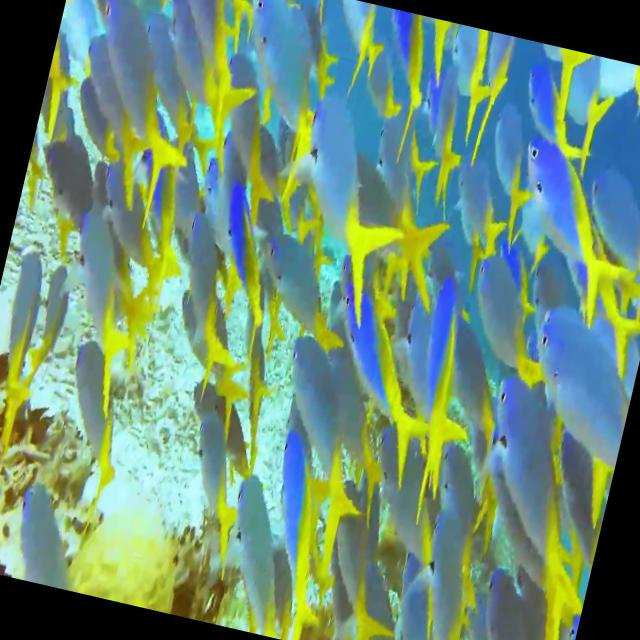fish: (238, 313, 403, 583), (268, 70, 430, 342), (50, 0, 226, 232), (374, 237, 510, 508), (480, 126, 640, 338), (134, 202, 274, 418), (505, 296, 640, 487), (44, 23, 177, 214), (38, 200, 155, 416), (302, 470, 431, 640), (220, 0, 354, 159), (206, 461, 323, 640), (159, 396, 263, 571), (42, 334, 144, 496), (0, 245, 61, 473), (558, 156, 640, 312), (0, 469, 99, 592), (18, 245, 90, 392), (428, 22, 502, 146)
